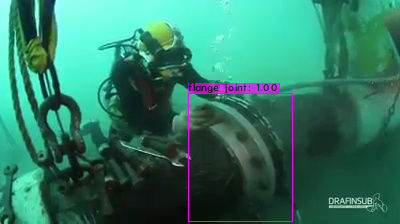flange joint: (191, 97, 291, 214)
